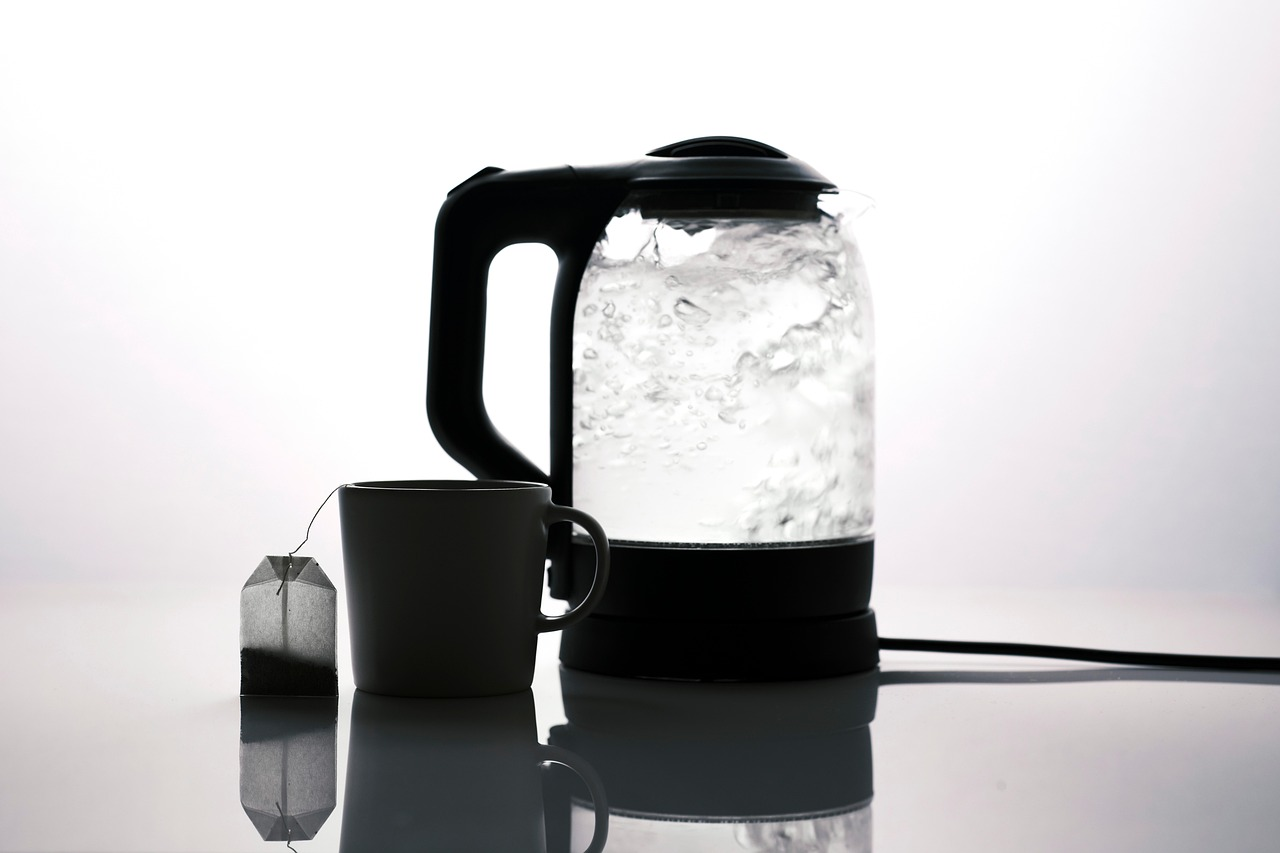mug: (339, 459, 599, 724)
